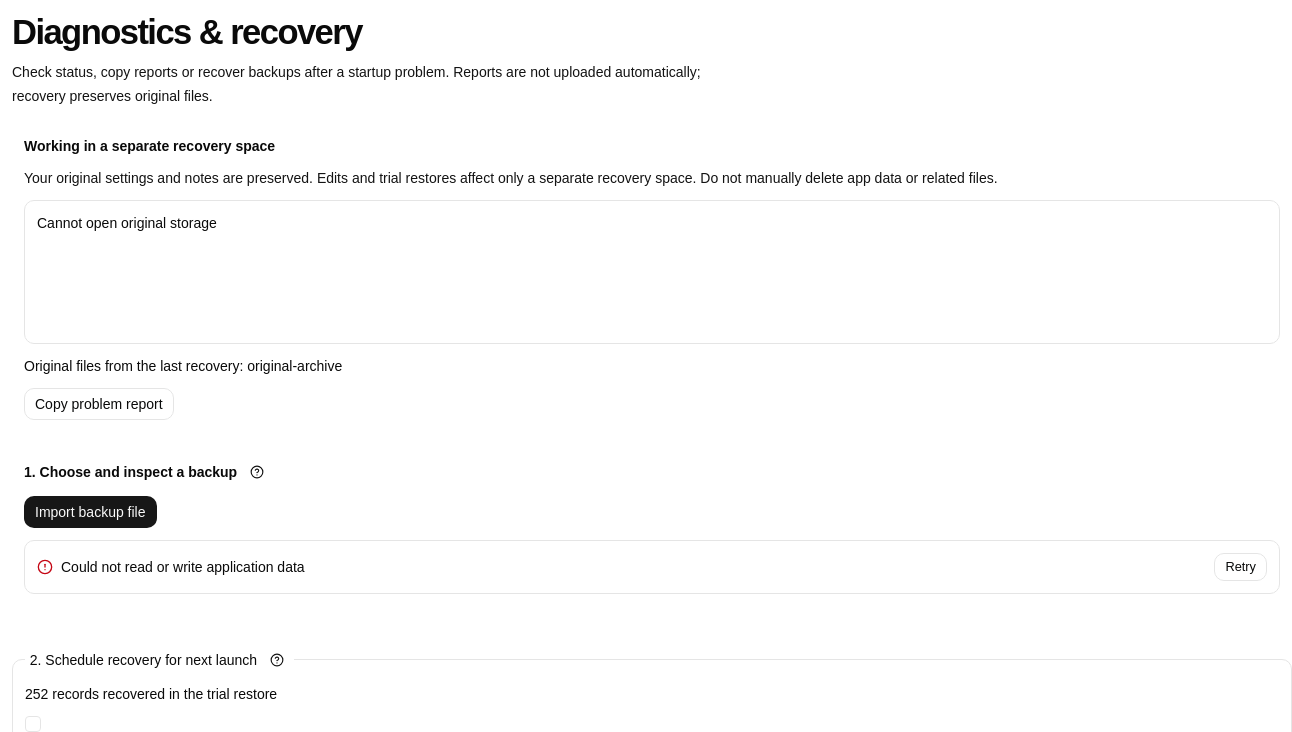
Test: isolated startup recovery › keeps backup listing failures inline and retries only the list without changing recovery evidence
The width and height of the screenshot is (1292, 732).
Expected: the message "Could not read or write application data Retry" is shown, top-left (24, 540), bottom-right (1280, 594)
Expected: the text "Cannot open original storage" is shown, top-left (37, 215), bottom-right (217, 231)
What coordinates should you click on to do the following:
click the button "Retry"
I would click on:
 (1241, 567)
Its box is top-left (1214, 553), bottom-right (1267, 581).
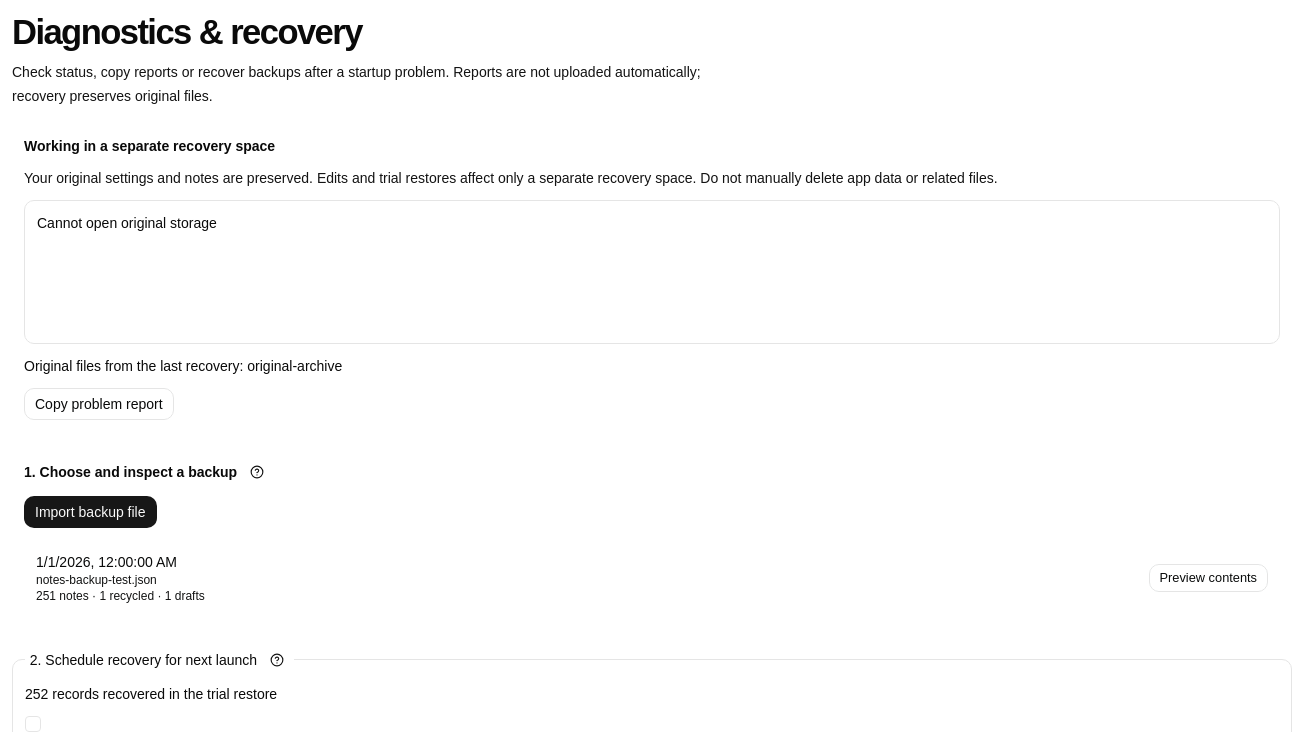
Expected: the text "notes-backup-test.json" is shown, top-left (36, 573), bottom-right (157, 587)
Expected: the message "Could not read or write application data Retry" is gone
